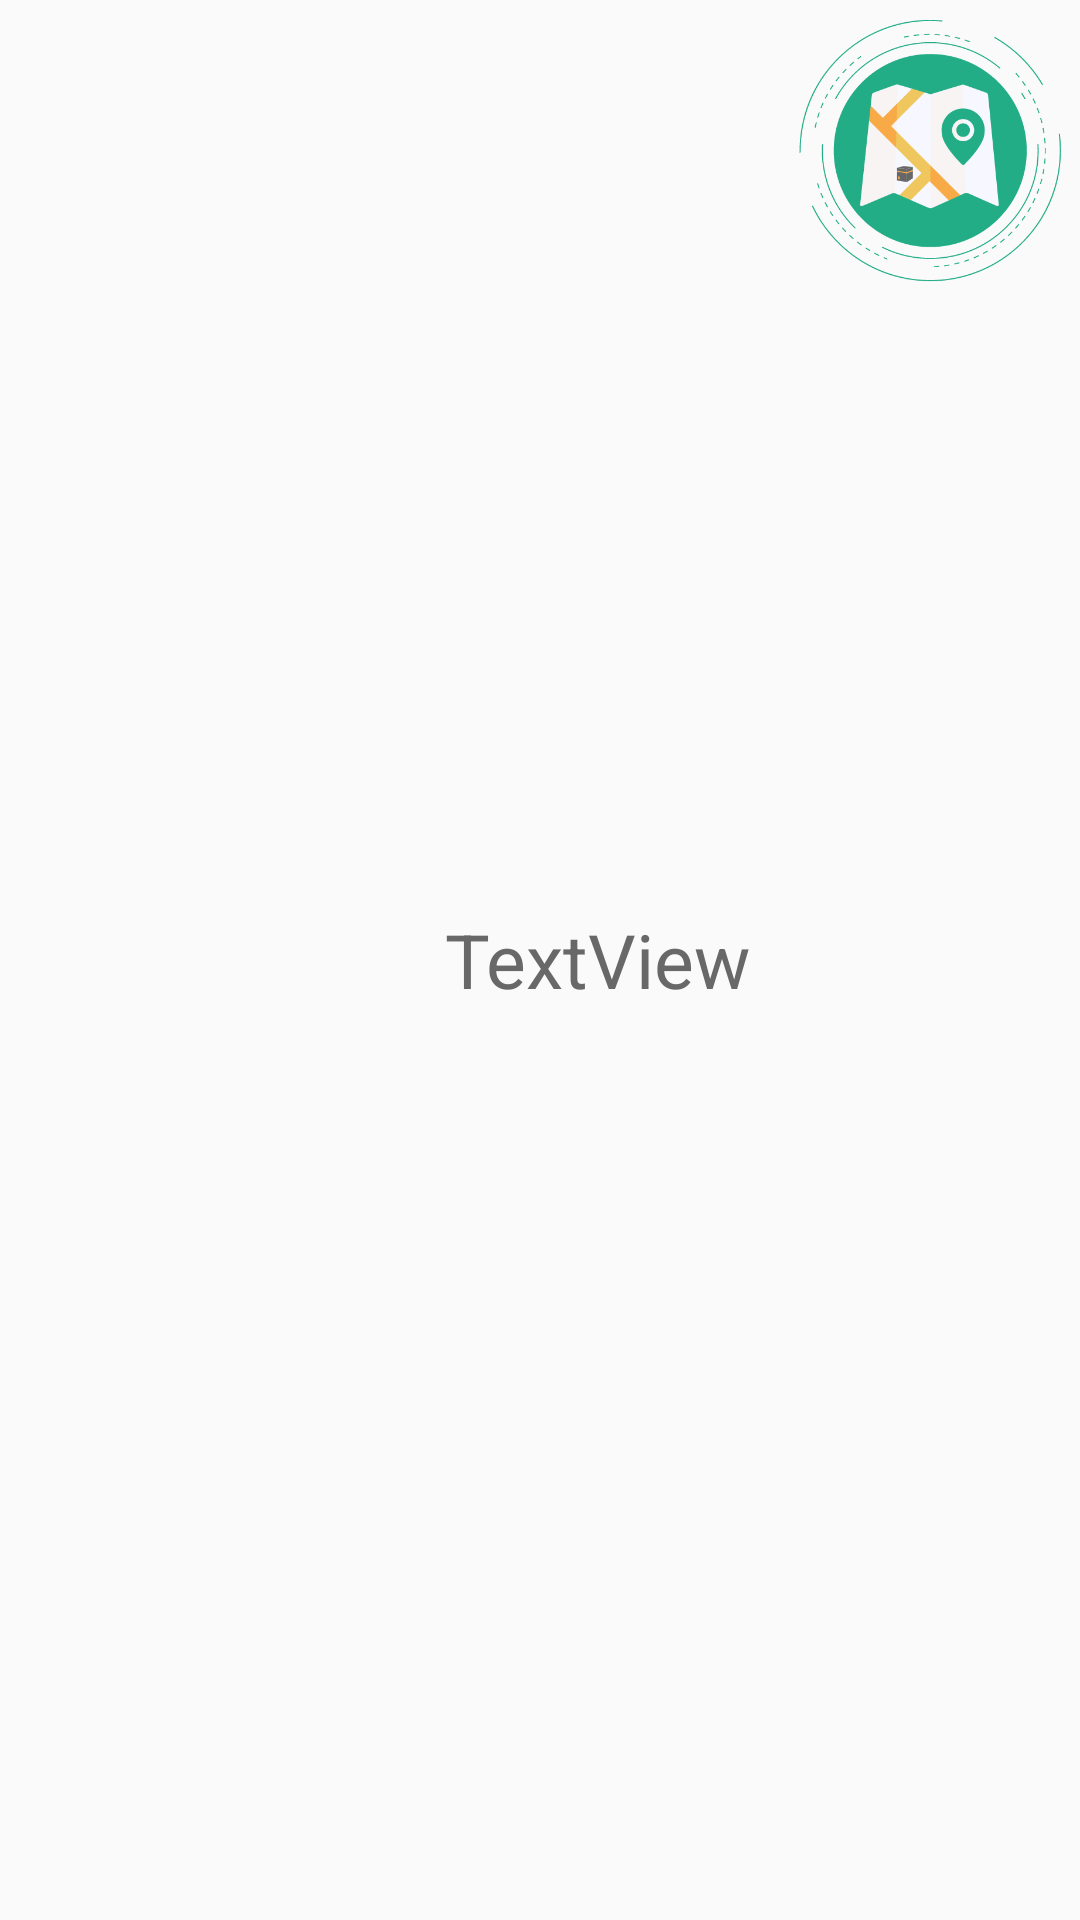

Icons on this 1080px x 1920px Android screen, each with the point to tap as (x,y):
guide: (930,150)
